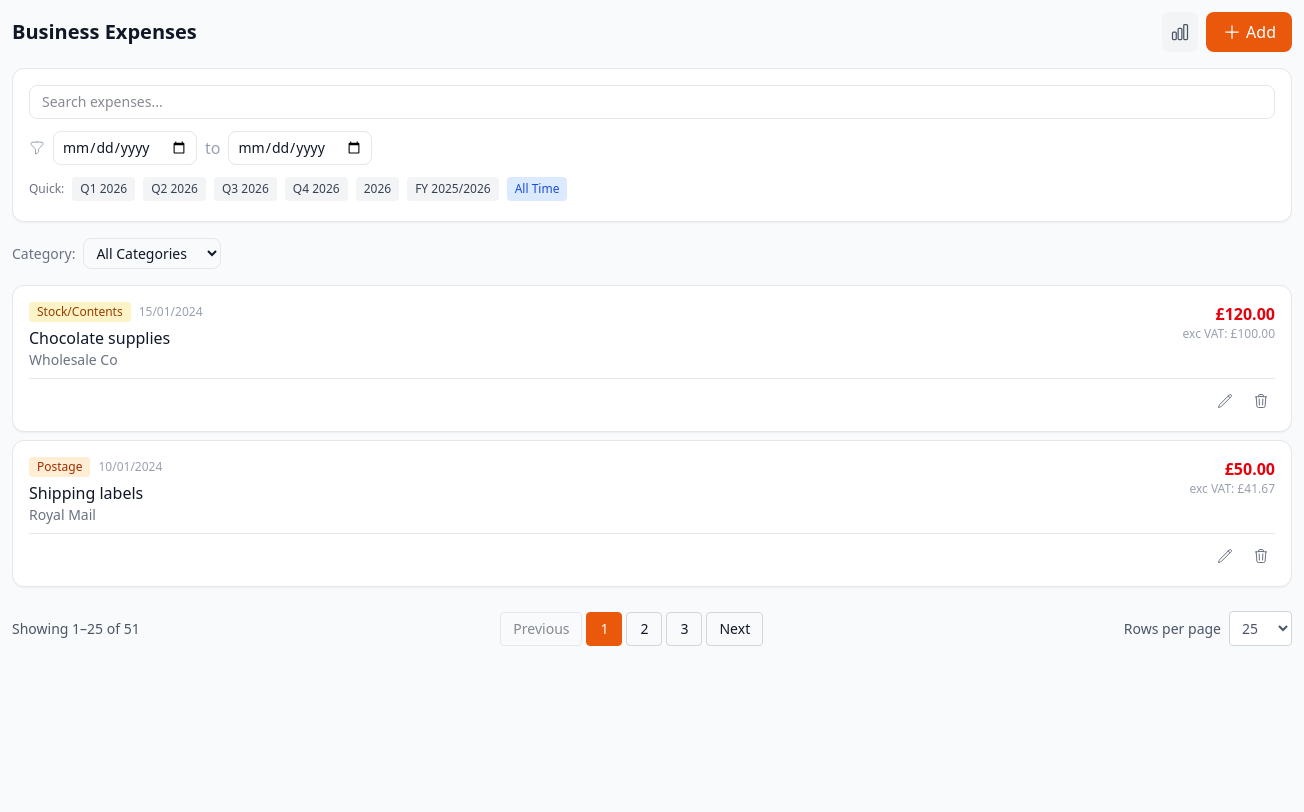
Test: Expenses › pagination request lifecycle › keeps the old row and retries a rejected page request
Click the button "2". click: click(644, 628)
box: x1=626 y1=612 x2=662 y2=646
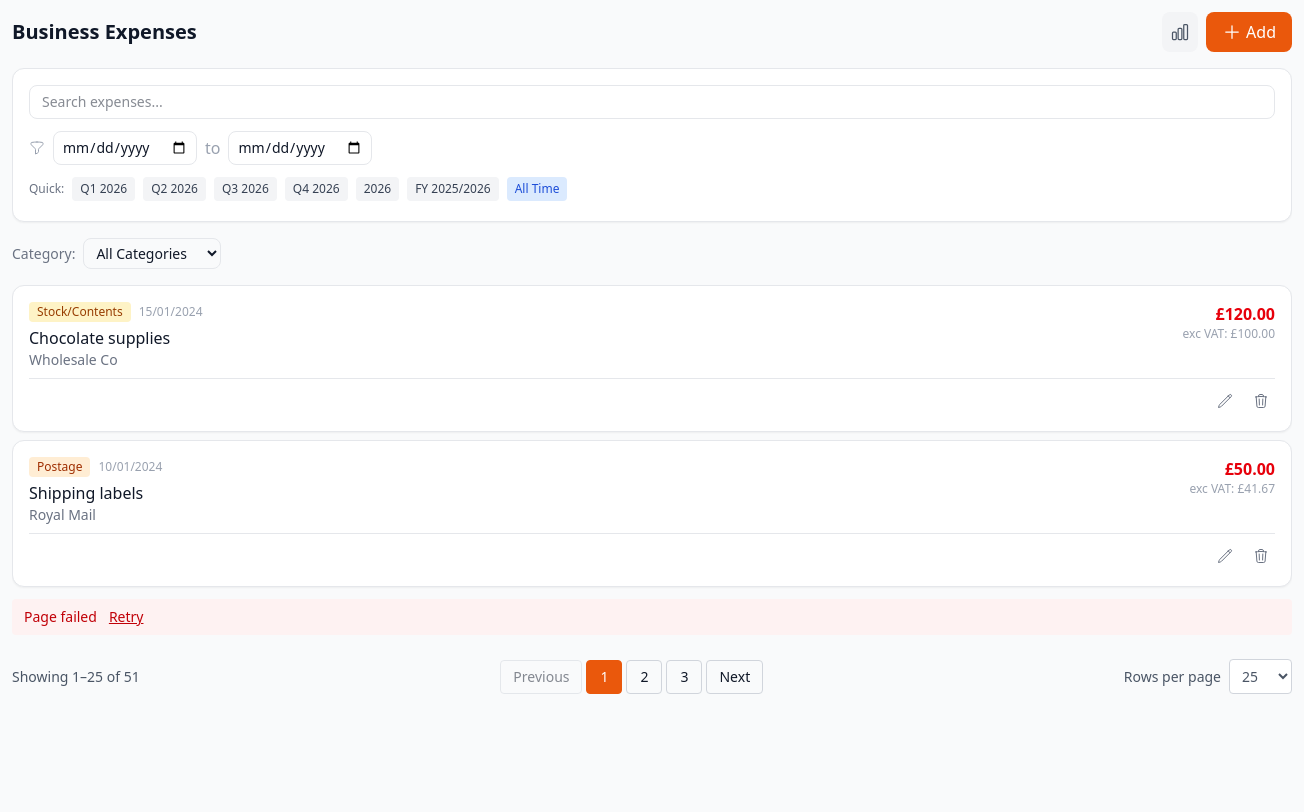
Check: the text "Chocolate supplies" is shown, box x1=29 y1=327 x2=170 y2=349
Check: the button "Retry" is shown
Check: the message shows "Page failed", box x1=24 y1=607 x2=97 y2=626
Click the button "Retry". click: click(126, 617)
box: x1=109 y1=607 x2=144 y2=627
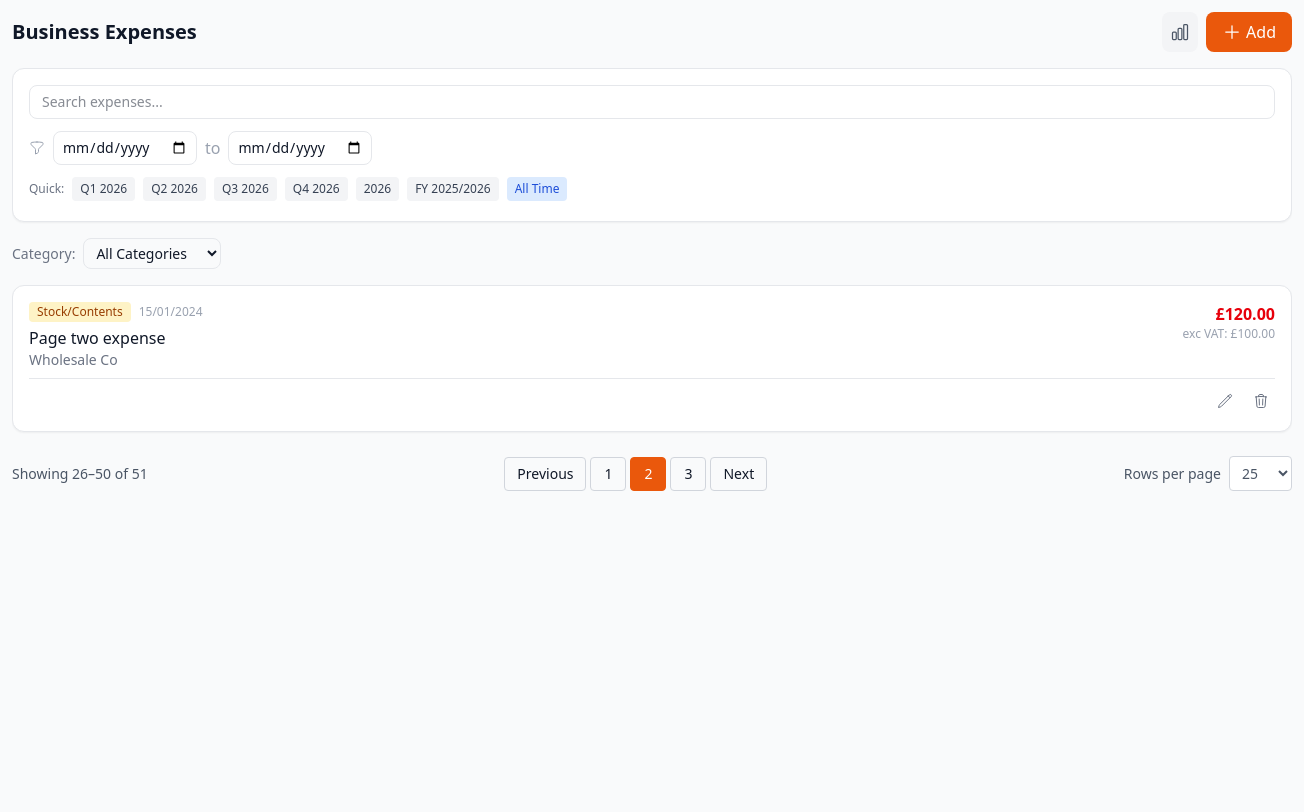
Check: the text "Page two expense" is shown, box x1=29 y1=327 x2=166 y2=349
Check: the button "Retry" is gone
